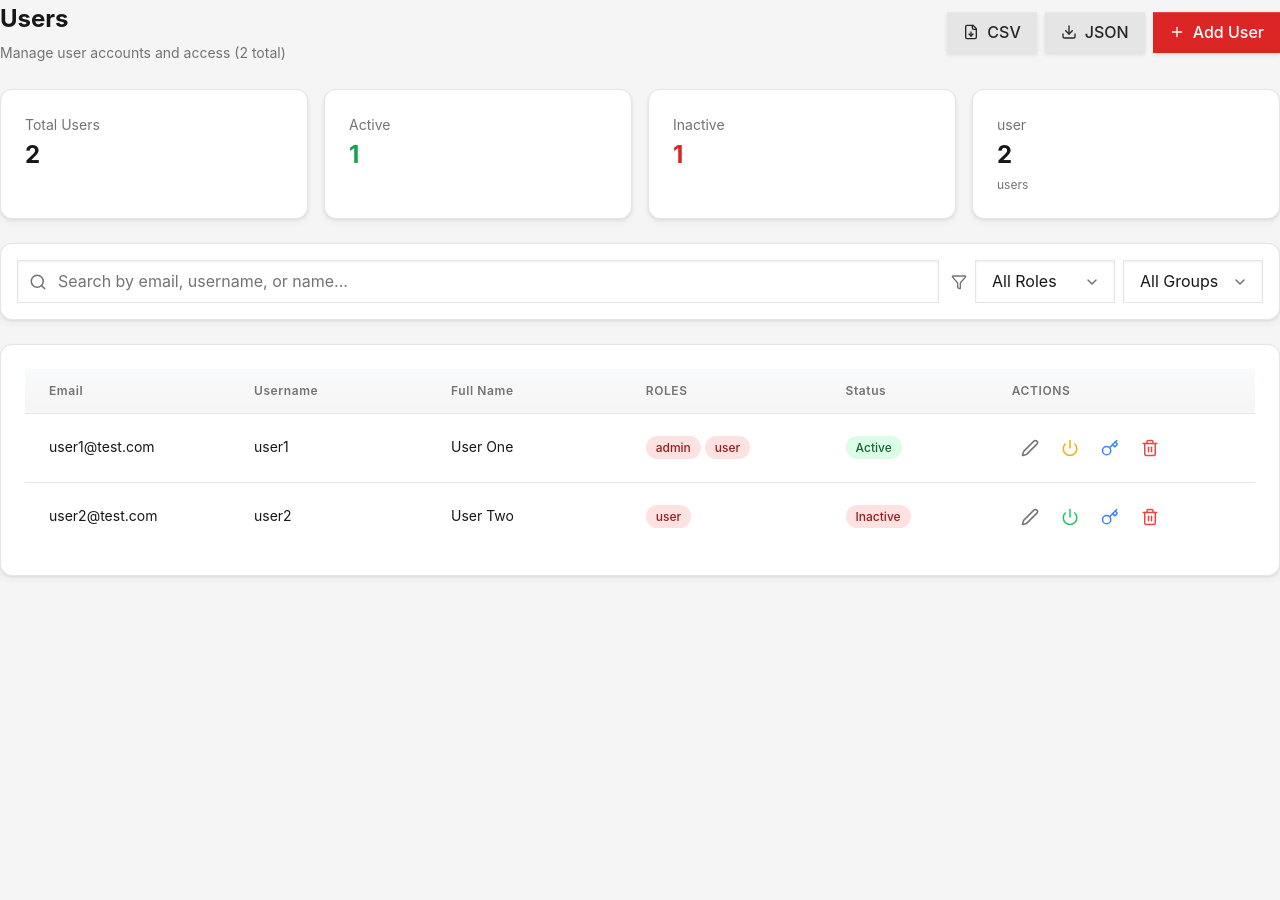
Test: UsersManagement › opens edit modal with pre-populated data
expect the text "user1@test.com" is shown: met, box [25,413,230,482]
Click the button titled "Edit" in the row of "user1@test.com" at (1030,448), box [1012,430,1048,466]
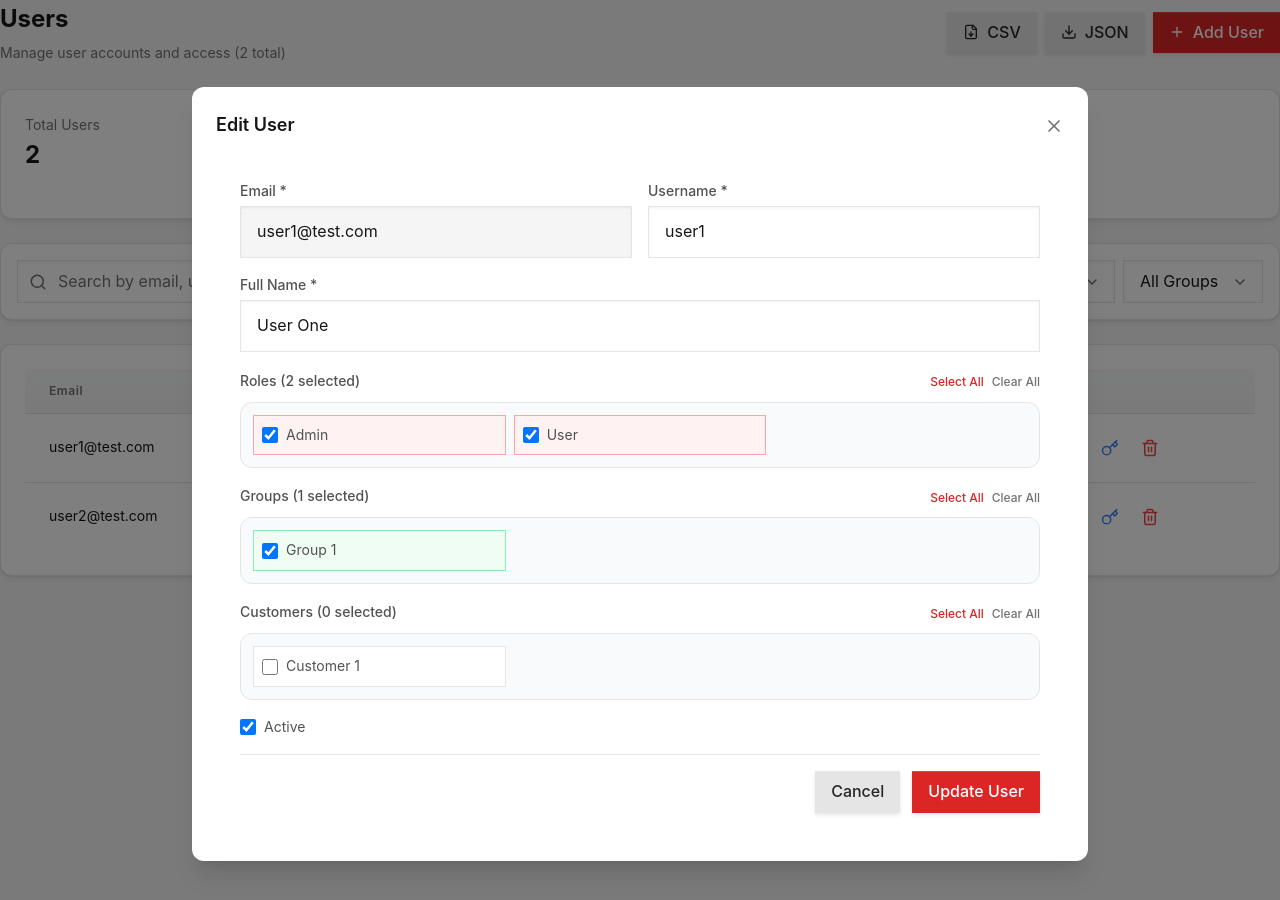
expect the heading "Edit User" is shown: met, box [216,111,295,140]
